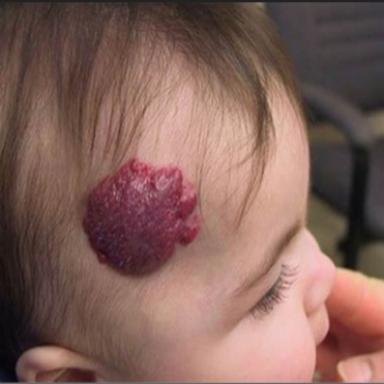Hemangiome: (83, 158, 200, 274)
